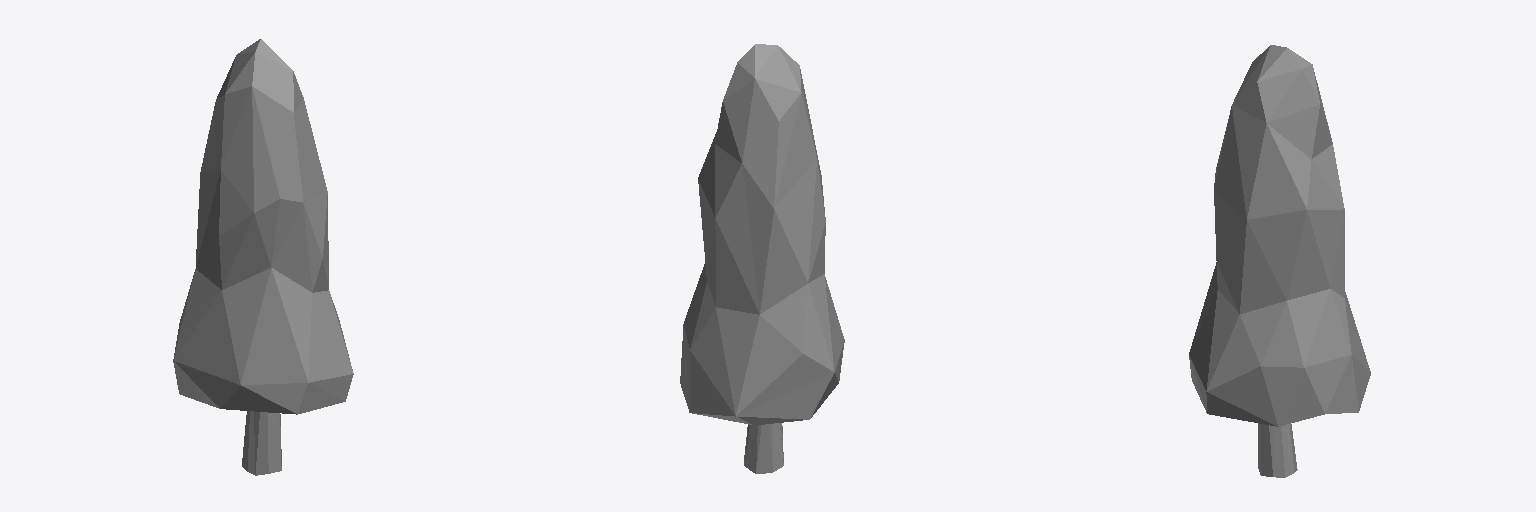
The model's file is tree-columnar.obj.
3 renders of one model, left to right at view 1: azimuth 30°, elevation 25°; view 2: azimuth 150°, elevation 25°; view 3: azimuth 270°, elevation 25°, orthographic.
Parts seen in each view (by area): view 1: leaves_Sphere, trunk_Cube; view 2: leaves_Sphere, trunk_Cube; view 3: leaves_Sphere, trunk_Cube.
Part boxes in pixels (x1,y1,x2,y2): leaves_Sphere: (173, 39, 353, 414); trunk_Cube: (242, 411, 281, 475); leaves_Sphere: (680, 44, 844, 425); trunk_Cube: (744, 423, 783, 473); leaves_Sphere: (1189, 45, 1370, 426); trunk_Cube: (1258, 423, 1297, 477).
Size of the model in its own units: 3.14 by 8.53 by 3.32.